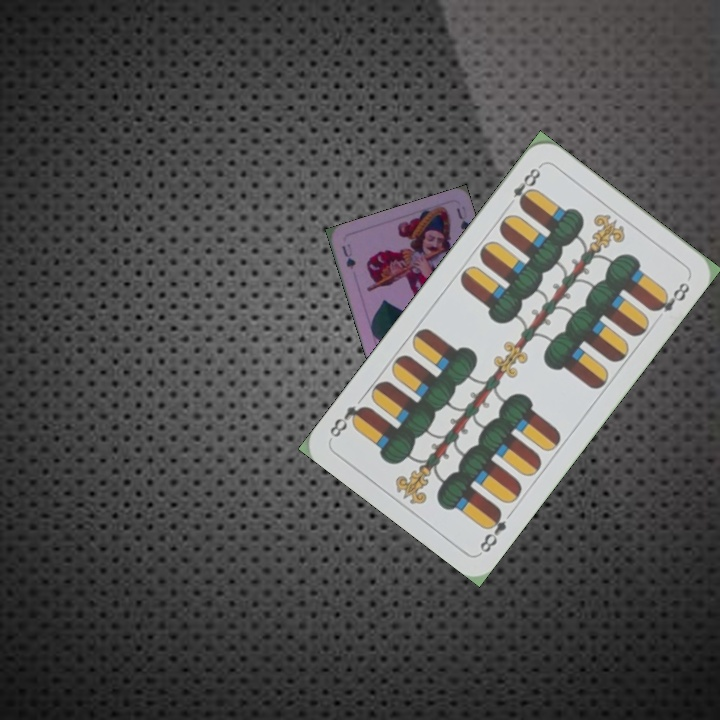E8: (475, 504, 510, 556), (508, 161, 544, 210)
GU: (338, 240, 358, 272)
